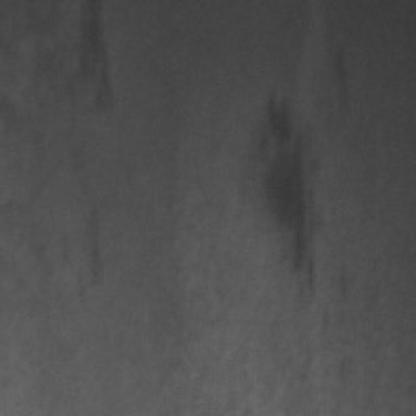inclusion: (246, 85, 322, 300), (64, 4, 123, 119), (61, 192, 112, 298)
